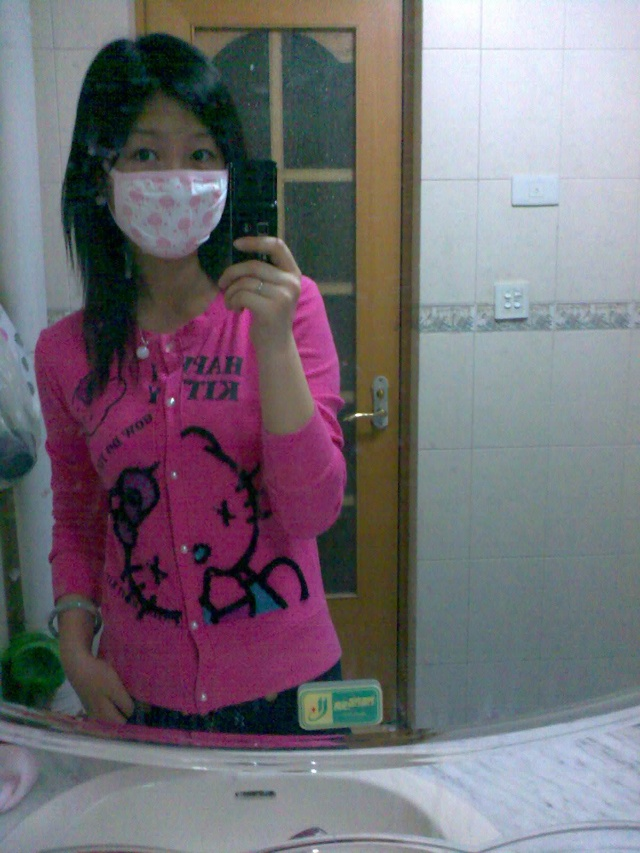face_mask: (109, 80, 225, 258)
